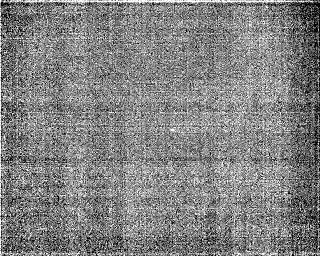AIRPLANE: (167, 125, 178, 136)
